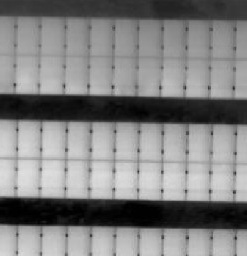solar: (13, 14, 43, 55), (37, 14, 67, 55), (62, 15, 92, 56), (87, 16, 117, 57), (110, 16, 140, 57), (135, 18, 165, 59), (159, 18, 189, 59), (184, 18, 214, 59), (207, 19, 237, 60), (11, 53, 41, 94), (36, 53, 66, 94), (61, 53, 91, 94), (85, 53, 115, 94), (108, 55, 138, 96), (134, 56, 164, 97), (158, 56, 188, 97), (182, 56, 212, 97), (206, 57, 236, 98), (14, 118, 44, 159), (39, 119, 69, 160), (63, 119, 93, 160), (88, 120, 118, 161), (111, 120, 141, 161), (136, 120, 166, 161), (159, 122, 189, 163), (184, 122, 214, 163), (208, 122, 238, 163), (13, 156, 43, 197), (38, 157, 68, 198), (61, 157, 91, 198), (86, 159, 116, 200), (110, 158, 140, 199), (135, 158, 165, 199), (158, 160, 188, 201), (183, 160, 213, 201), (207, 161, 237, 202)
